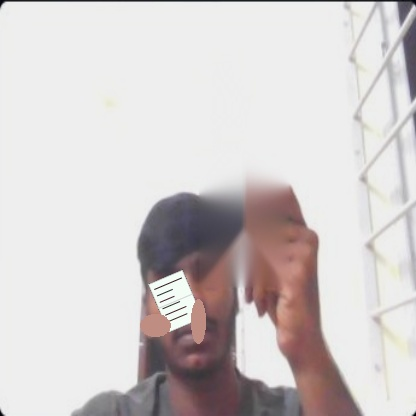cheat_chit: (148, 269, 203, 332)
